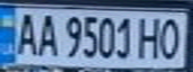0: (97, 13, 118, 60)
1: (115, 15, 136, 60)
5: (78, 12, 100, 60)
9: (60, 11, 84, 58)
A: (12, 9, 39, 56), (33, 10, 60, 57)
H: (136, 13, 163, 60)
O: (157, 15, 187, 61)
